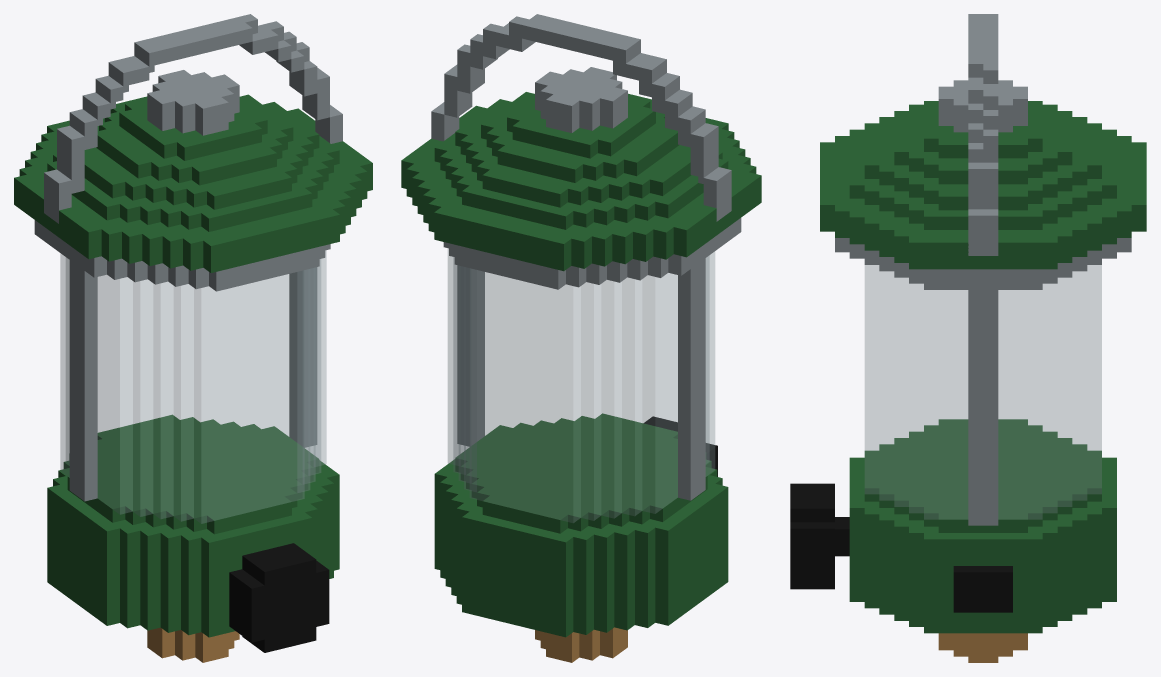
File: propane_lantern.glb
3 renders of one model, left to right at view 1: azimuth 30°, elevation 25°; view 2: azimuth 150°, elevation 25°; view 3: azimuth 270°, elevation 25°, orthographic.
Parts seen in each view (by area): view 1: propane_lantern:compound; view 2: propane_lantern:compound; view 3: propane_lantern:compound.
Boxes of the visible parts, box(x1,y1,x2,y2) form: propane_lantern:compound: box(14, 14, 372, 662); propane_lantern:compound: box(401, 14, 761, 662); propane_lantern:compound: box(790, 14, 1146, 662).
Size of the model in its own units: 0.088 by 0.18 by 0.096.
